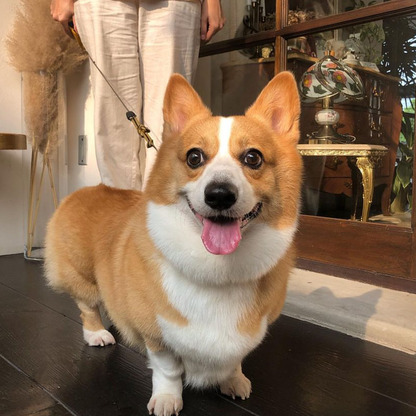Corgi: (48, 70, 309, 403)
